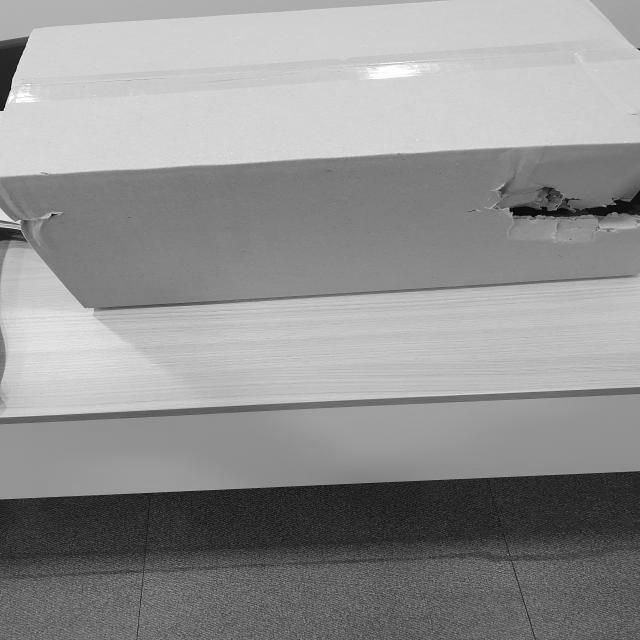hole: (487, 170, 639, 240)
